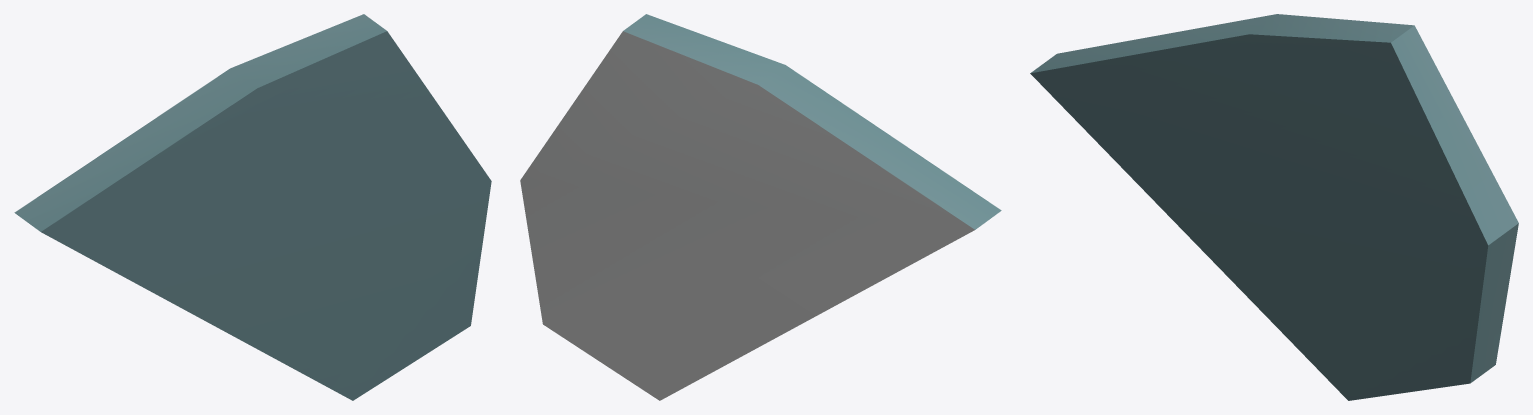
The model's file is IceDrift.004.glb.
The picture shows the model from 3 angles, left to right: view 1: azimuth 30°, elevation 25°; view 2: azimuth 150°, elevation 25°; view 3: azimuth 330°, elevation 25°; orthographic projection.
Parts seen in each view (by area): view 1: IceDrift.004; view 2: IceDrift.004; view 3: IceDrift.004.
Part boxes in pixels (bbox=[...]): IceDrift.004: bbox=[14, 14, 491, 400]; IceDrift.004: bbox=[520, 14, 1001, 400]; IceDrift.004: bbox=[1030, 14, 1518, 400].
Bounding box in the file's own units: 264 × 201 × 30.56.
